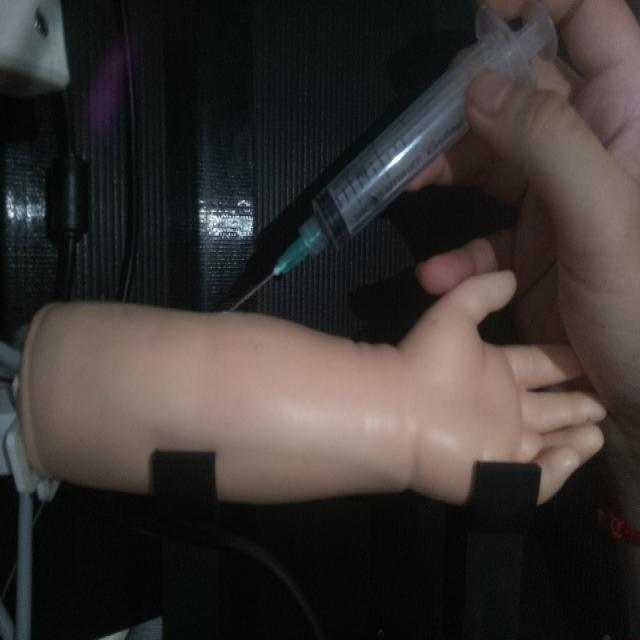Above 30 degrees: (224, 2, 559, 314)
